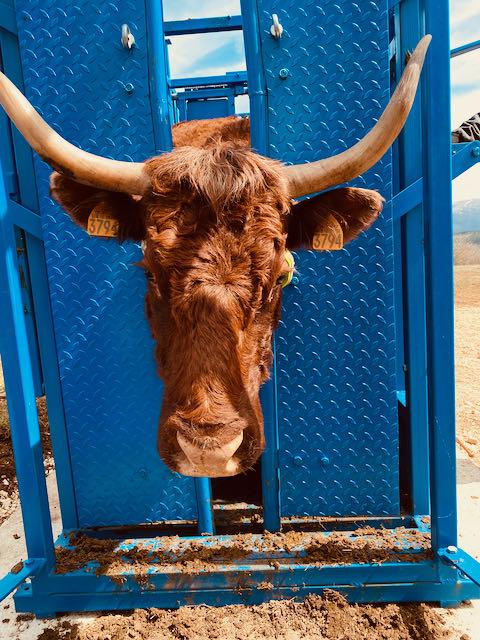muzzles: (154, 418, 267, 482)
